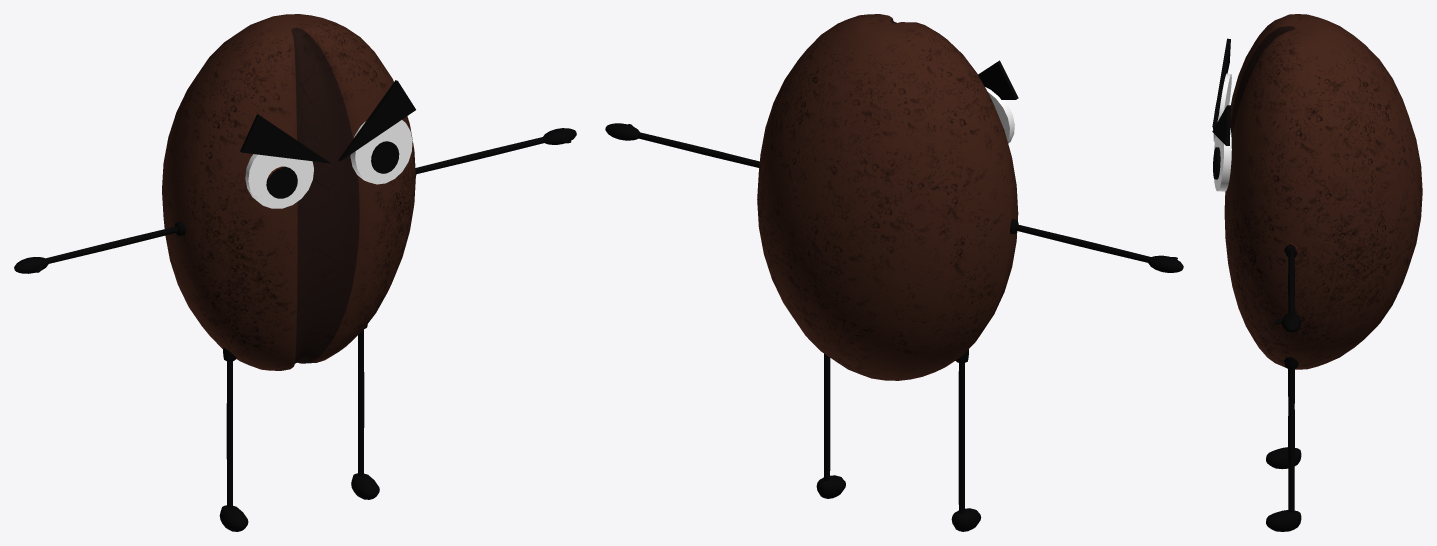
File: Coffeebean_TPose.fbx
3 views of the same model, side by side, from view 1: azimuth 30°, elevation 25°; view 2: azimuth 150°, elevation 25°; view 3: azimuth 270°, elevation 25° (orthographic). The views are drawn at different scales.
Parts seen in each view (by area): view 1: polySurface43; view 2: polySurface43; view 3: polySurface43.
Boxes of the visible parts, x1,y1,x2,y2 form: polySurface43: (14, 14, 576, 531); polySurface43: (605, 14, 1183, 531); polySurface43: (1212, 14, 1422, 531).
Size of the model in its own units: 116 by 95.15 by 38.47.
1 material, 1 textured.
